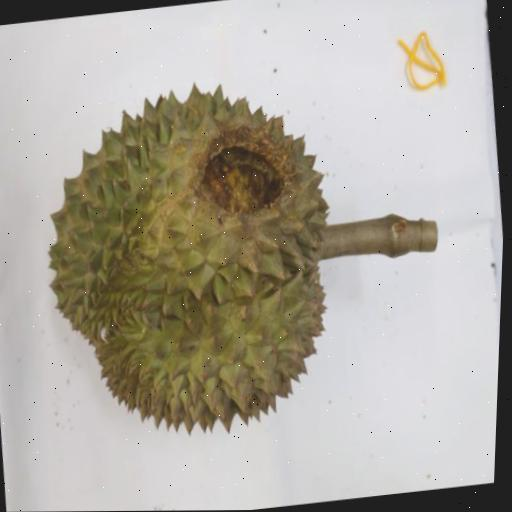rot: (4, 14, 509, 456)
